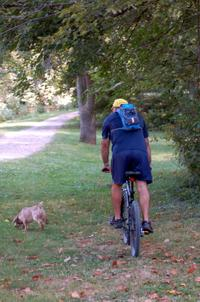person: (101, 98, 155, 237)
